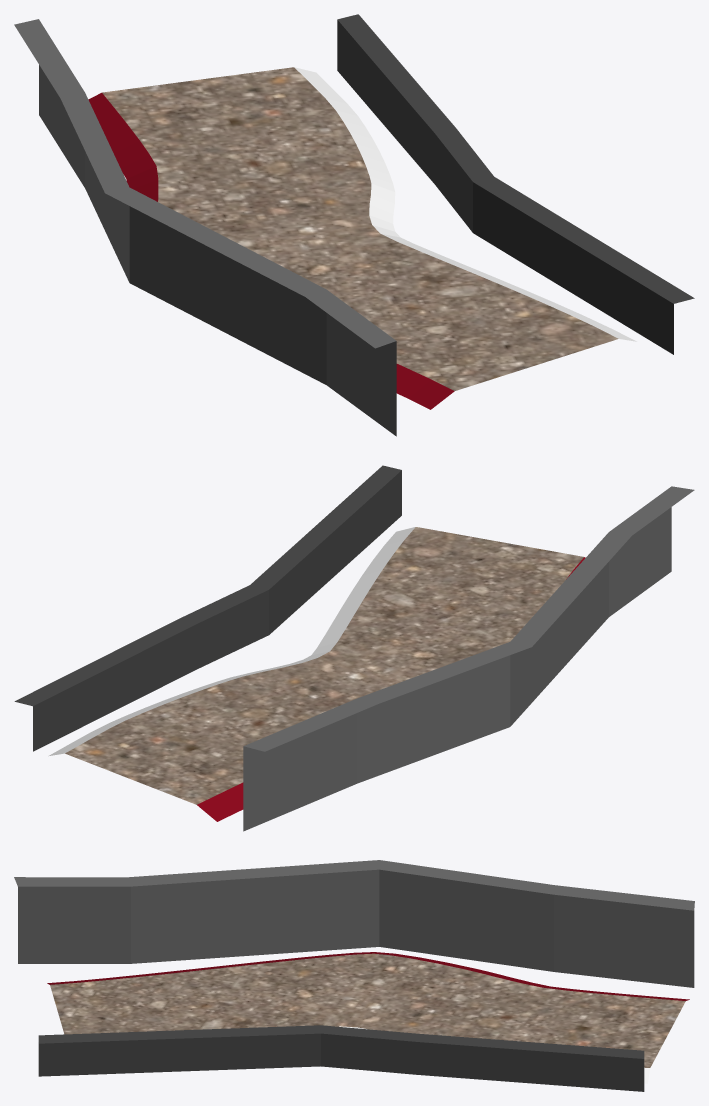
Rendered from KartTrackS24.fbx.
3 views of the same model, one above another, from view 1: azimuth 30°, elevation 25°; view 2: azimuth 150°, elevation 25°; view 3: azimuth 270°, elevation 25° (orthographic). The views are drawn at different scales.
Parts seen in each view (by area): view 1: PistaS24; view 2: PistaS24; view 3: PistaS24.
Boxes of the visible parts, left/top/right/bottom form: PistaS24: left=14, top=14, right=694, bottom=436; PistaS24: left=14, top=465, right=694, bottom=831; PistaS24: left=14, top=860, right=694, bottom=1091.
Bounding box in the file's own units: 3415 × 749 × 5978.
